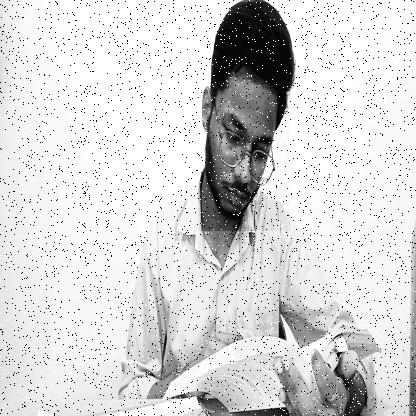Distracted: (198, 2, 290, 231)
